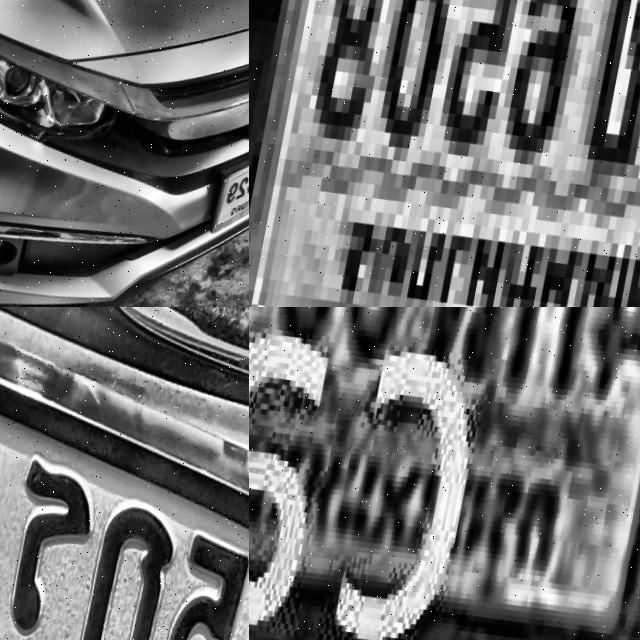license-plate: (249, 307, 640, 640), (249, 0, 640, 307), (0, 307, 249, 640), (207, 120, 249, 254)
